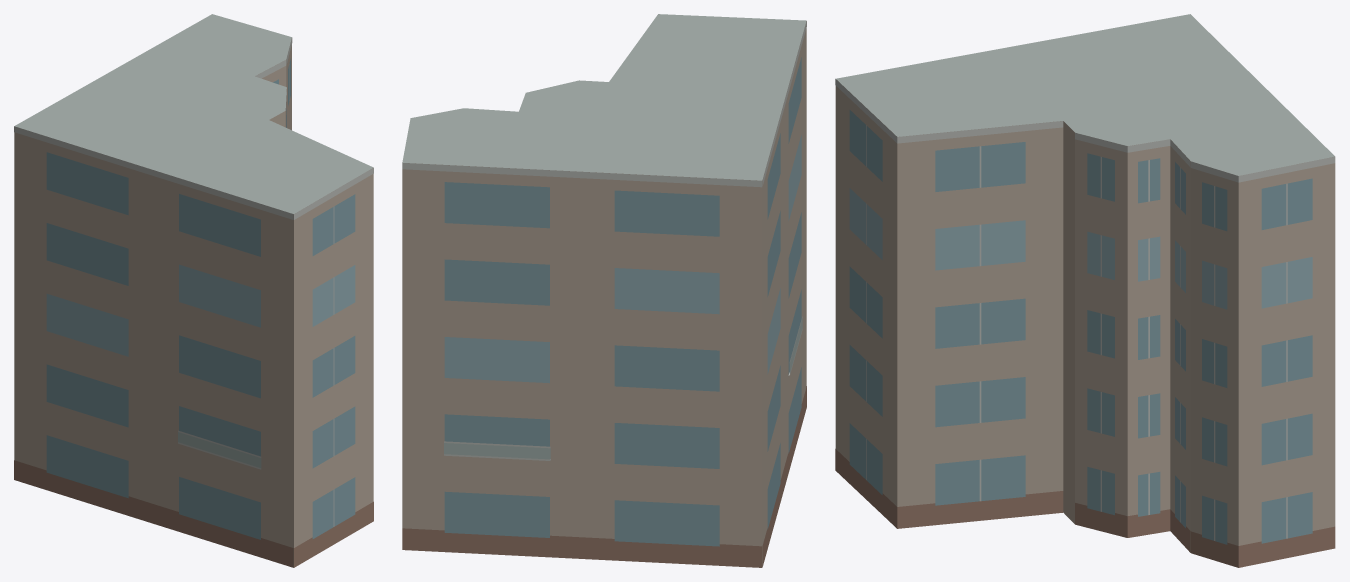
Rendered from survey-upis-32712641.glb.
The picture shows the model from 3 angles, left to right: view 1: azimuth 30°, elevation 25°; view 2: azimuth 150°, elevation 25°; view 3: azimuth 270°, elevation 25°; orthographic projection. The views are drawn at different scales.
Visible parts, largest first — view 1: survey-upis-32712641.tmp; view 2: survey-upis-32712641.tmp; view 3: survey-upis-32712641.tmp.
Boxes of the visible parts, left/top/right/bottom form: survey-upis-32712641.tmp: left=14, top=14, right=373, bottom=567; survey-upis-32712641.tmp: left=402, top=14, right=806, bottom=567; survey-upis-32712641.tmp: left=835, top=14, right=1335, bottom=567.
Size of the model in its own units: 12.82 by 14.45 by 16.71.
